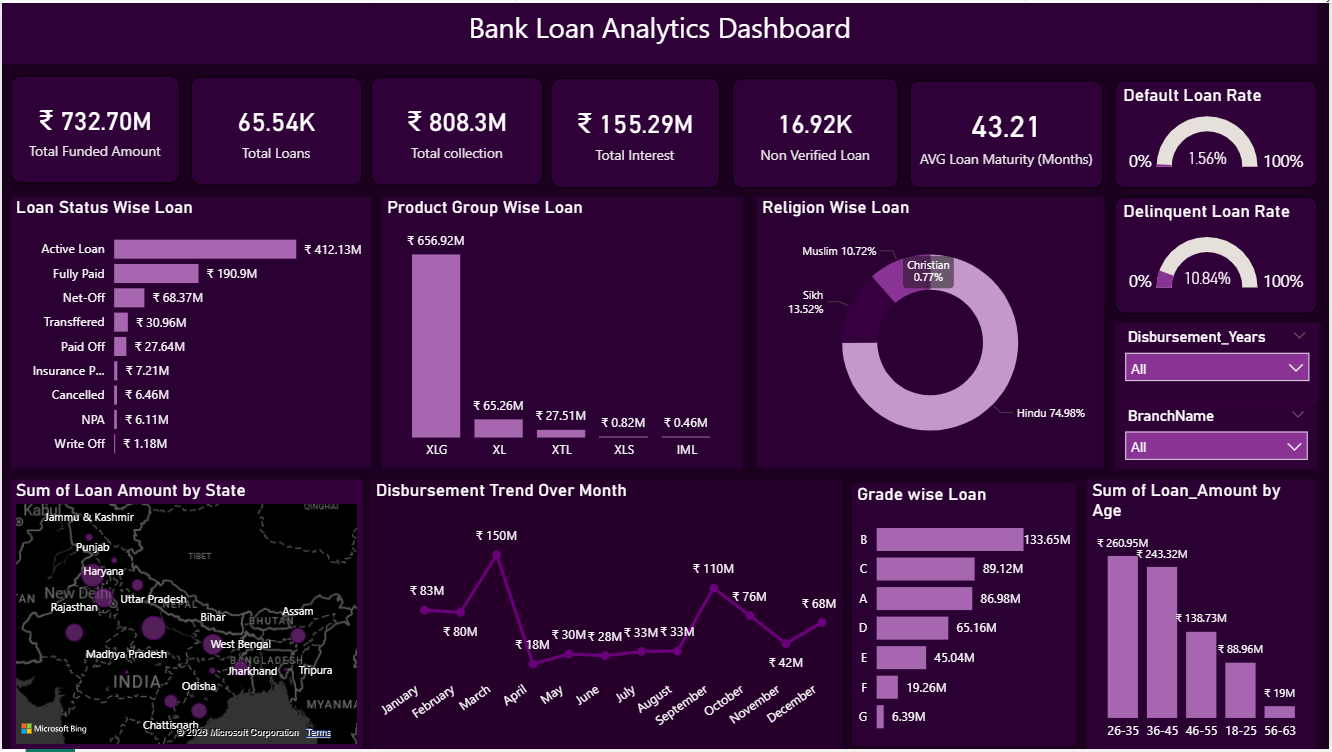

The dashboard page shown, as its layout file describes it:
{"tool":"tableau","page":{"name":"Dashboard 1","canvas":[1000,1000],"units":"permille","ordinal":0},"visuals":[{"type":"text","box":[4.9,10,990.1,84.9]},{"type":"worksheet","title":"Total funded amount","mark":"Automatic","box":[4.9,94.9,123.8,183.5]},{"type":"worksheet","title":"Total Loans","mark":"Automatic","box":[128.7,94.9,123.8,183.5]},{"type":"worksheet","title":"Total Collection","mark":"Automatic","box":[252.5,94.9,123.8,183.5]},{"type":"worksheet","title":"Total Interest","mark":"Automatic","box":[376.2,94.9,123.8,183.5]},{"type":"worksheet","title":"Non verified loans","mark":"Automatic","box":[500,94.9,123.8,183.5]},{"type":"worksheet","title":"Average Loan Maturity (Months)","mark":"Automatic","box":[623.7,94.9,123.8,183.5]},{"type":"worksheet","title":"Default Loan","mark":"Pie","rows":["Calculation_1842253757352505349","Calculation_1842253757352534023"],"box":[747.5,94.9,123.8,183.5]},{"type":"worksheet","title":"Delinquent Loan","mark":"Pie","rows":["Calculation_1842253757352505349","Calculation_1842253757352534023"],"box":[871.3,94.9,123.8,183.5]},{"type":"worksheet","title":"Loan Status-Wise Loan","mark":"Automatic","rows":["Loan_Status"],"cols":["Loan_Amount"],"box":[4.9,278.4,247.2,358.1]},{"type":"worksheet","title":"Product-Group wise Loan","mark":"Automatic","rows":["Loan_Amount"],"cols":["Product _Code"],"box":[252.1,278.4,261.7,358.1]},{"type":"worksheet","title":"Religion Wise Loan","mark":"Pie","rows":["Calculation_1842253757372846093","Calculation_1842253757372870671"],"box":[513.8,278.4,254.2,358.1]},{"type":"filter","title":"Age Group-Wise Loan","param":"[federated.1sf12a31s66beb1ev07wz14o3s9r].[none:BranchName:nk]","box":[768,278.4,227.1,83.6]},{"type":"filter","title":"Age Group-Wise Loan","param":"[federated.1sf12a31s66beb1ev07wz14o3s9r].[none:Disbursement_Years:nk]","box":[768,362,227.1,167.3]},{"type":"worksheet","title":"State wise Loan","mark":"Automatic","box":[768,529.3,227.1,460.7]},{"type":"worksheet","title":"Grade Wise Loan","mark":"Automatic","rows":["Grade"],"cols":["Loan_Amount"],"box":[4.9,636.5,178.8,353.5]},{"type":"worksheet","title":"Disbursement Trend over Months","mark":"Automatic","rows":["Loan_Amount"],"cols":["Disbursement_Date"],"box":[183.7,636.5,340,353.5]},{"type":"worksheet","title":"Age Group-Wise Loan","mark":"Automatic","rows":["Loan_Amount"],"cols":["Age"],"box":[523.7,636.5,244.3,353.5]}]}

Visuals, with their boxes on the dashboard's canvas, which has no fixed pixel size, in thousandths of its width and height (x1, y1, x2, y2). These are canvas units, not pixel positions in the 1332x752 screenshot, which may show the page scaled, cropped or inside an application window:
text: (5,10,995,95)
"Total funded amount" worksheet: (5,95,129,278)
"Total Loans" worksheet: (129,95,252,278)
"Total Collection" worksheet: (252,95,376,278)
"Total Interest" worksheet: (376,95,500,278)
"Non verified loans" worksheet: (500,95,624,278)
"Average Loan Maturity (Months)" worksheet: (624,95,748,278)
"Default Loan" worksheet (Pie marks): (748,95,871,278)
"Delinquent Loan" worksheet (Pie marks): (871,95,995,278)
"Loan Status-Wise Loan" worksheet: (5,278,252,636)
"Product-Group wise Loan" worksheet: (252,278,514,636)
"Religion Wise Loan" worksheet (Pie marks): (514,278,768,636)
"Age Group-Wise Loan" filter: (768,278,995,362)
"Age Group-Wise Loan" filter: (768,362,995,529)
"State wise Loan" worksheet: (768,529,995,990)
"Grade Wise Loan" worksheet: (5,636,184,990)
"Disbursement Trend over Months" worksheet: (184,636,524,990)
"Age Group-Wise Loan" worksheet: (524,636,768,990)
